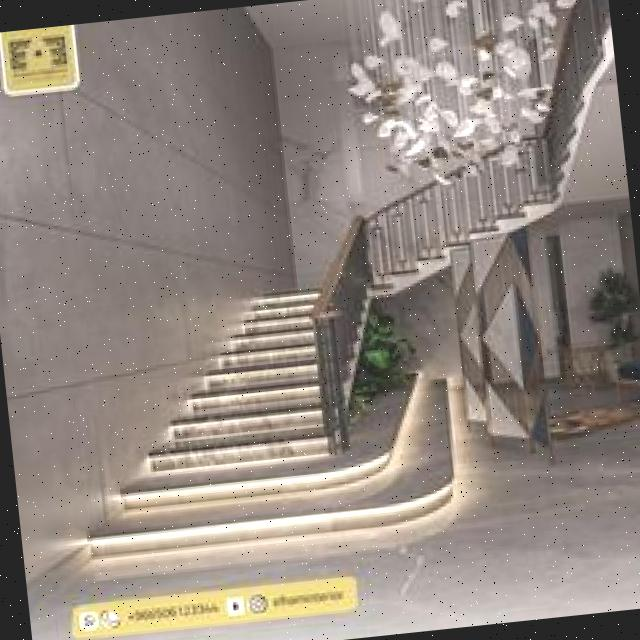stairs: (59, 267, 462, 565)
